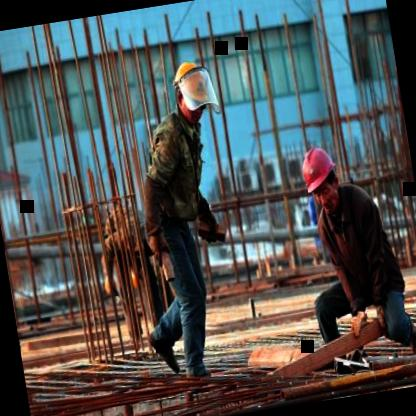helmet: (295, 140, 348, 223), (165, 52, 215, 116)
